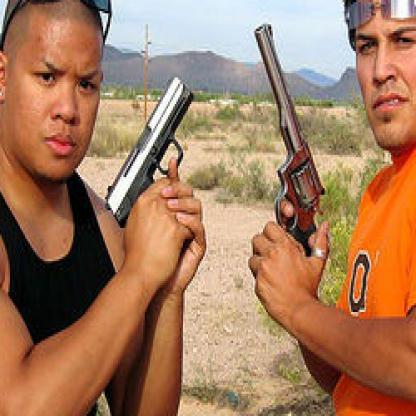gun: (255, 23, 330, 264), (104, 73, 198, 227)
